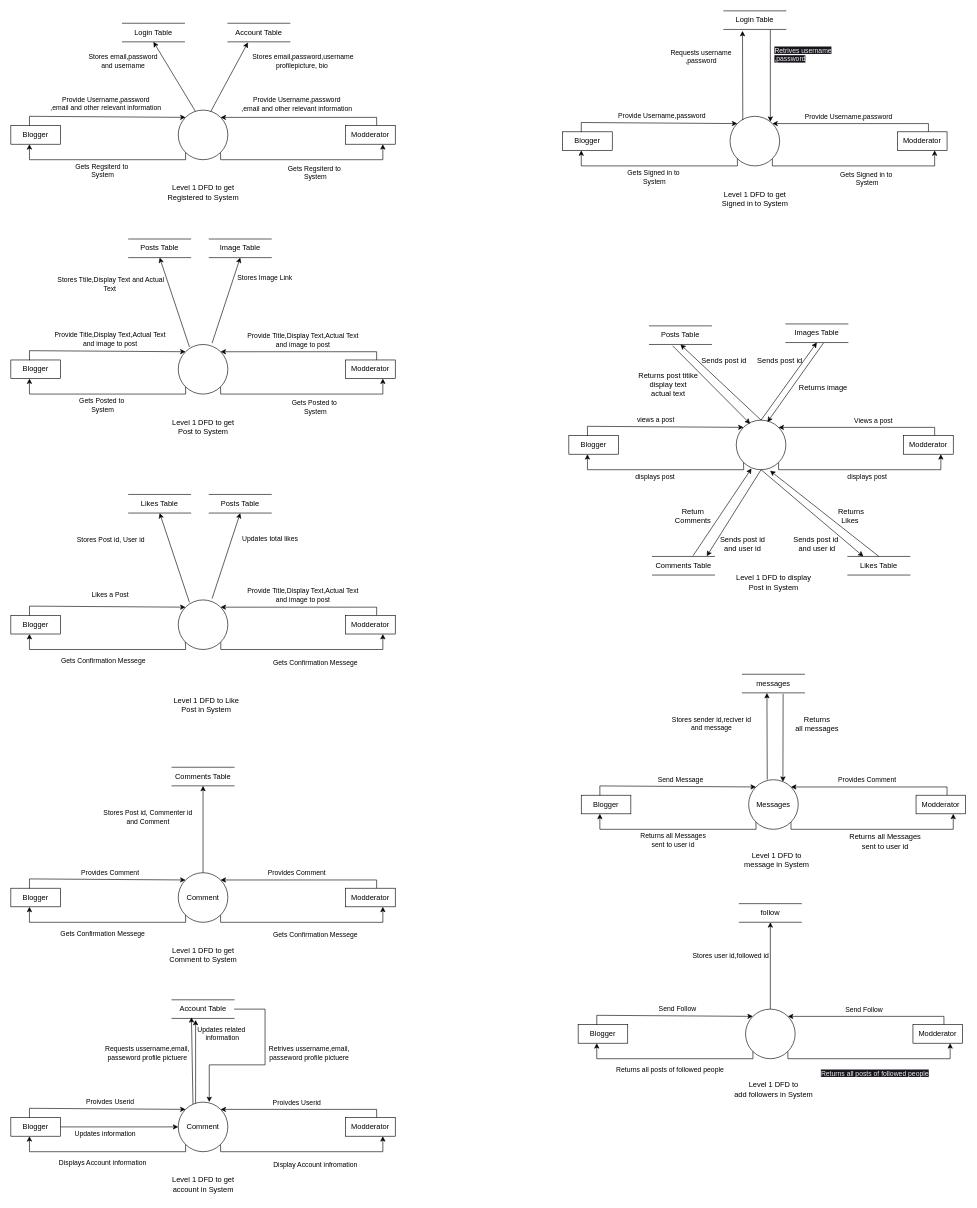
Some shapes in this 977 by 1208 pixel diagram are drawn without their labels. The centre of each missing label's shape, as x and y in pixels:
"Follower" goes at point (770, 1033).
"Likes" goes at point (203, 624).
"Post" goes at point (203, 369).
"post display" goes at point (761, 444).
"Register" goes at point (203, 134).
"Sign Up" goes at point (754, 141).
